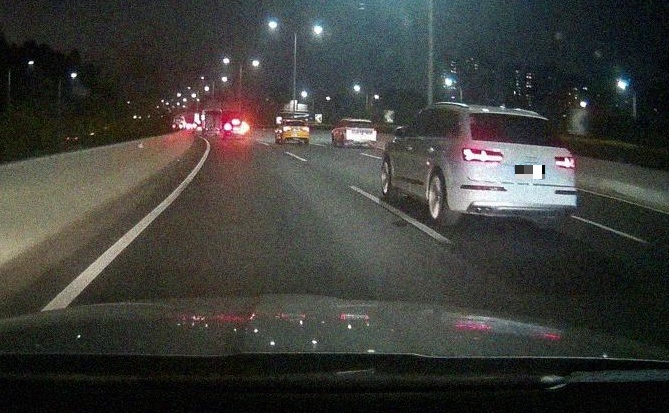L_light: (462, 147, 505, 163), (345, 130, 353, 140), (283, 126, 292, 132)
R_light: (554, 155, 576, 170), (372, 130, 377, 141), (302, 126, 309, 131)
T_light: (505, 115, 529, 120), (356, 120, 364, 123), (292, 121, 299, 122)
night-no: (453, 104, 578, 231), (344, 119, 377, 148), (282, 119, 310, 145)
plate_1: (515, 165, 545, 179)
